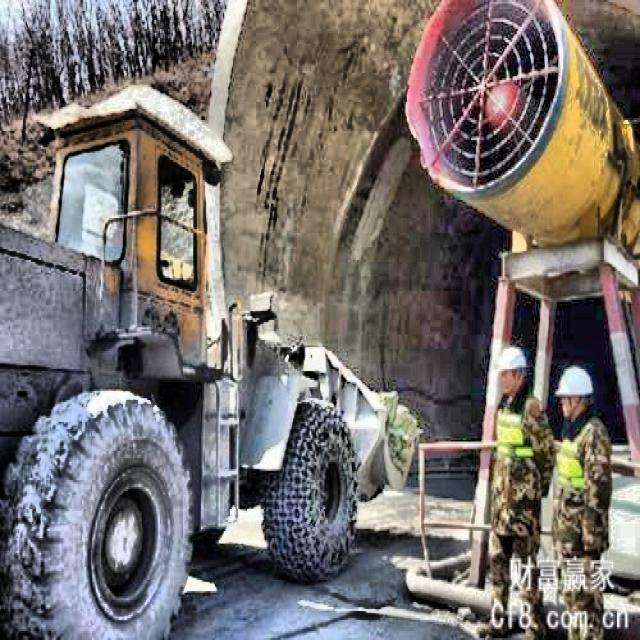helmet: (494, 340, 530, 400), (557, 364, 594, 422)
